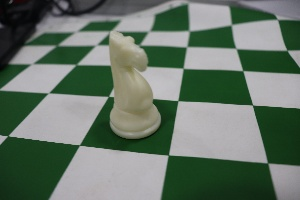white_horse: (96, 16, 168, 144)
